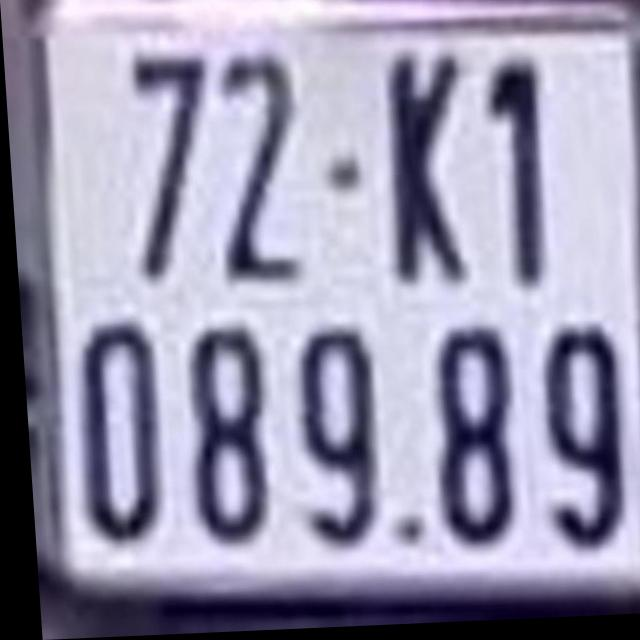0: (69, 319, 157, 541)
1: (485, 66, 556, 296)
2: (222, 57, 302, 287)
7: (128, 61, 208, 283)
8: (178, 324, 265, 544), (428, 327, 512, 547)
9: (289, 325, 378, 552), (533, 330, 622, 554)
K: (384, 51, 467, 291)
